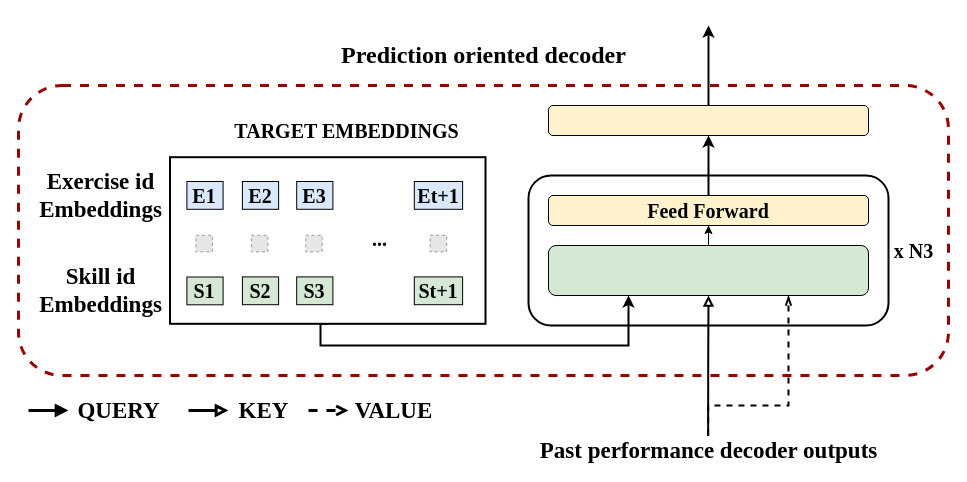
Some shapes in this 967 by 482 pixel diagram are drawn without their labels. Grey dashed boxes stand in for pictures. The centre of each missing label's shape, as x and y in pixels:
Linear: (708,120)
Multi Head Attention with Upper Triangular Mask: (708,270)
